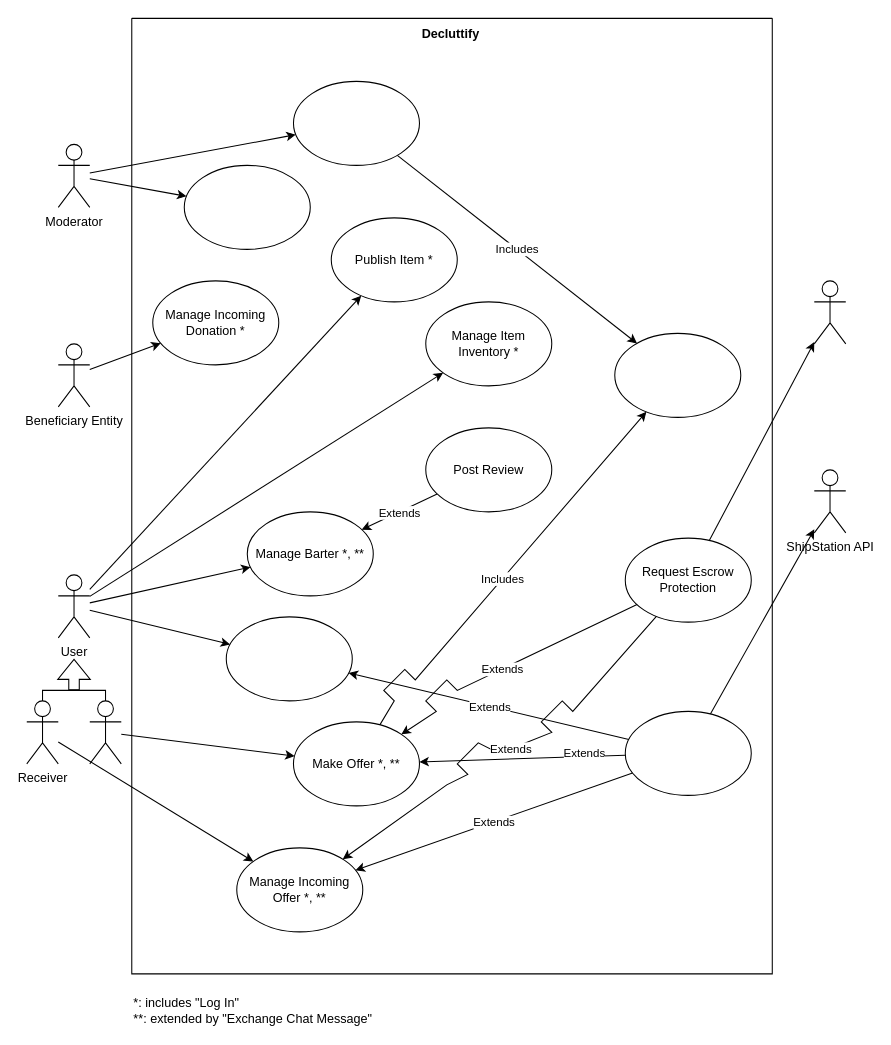
The diagram is 891 pixels wide and 1045 high, and some of its shapes have lost their labels. The box of each missing label's shape, as (x1, y1, x2, y2) in pixels:
Donate Item *: (225, 616, 352, 701)
Escrow.com: (813, 280, 846, 344)
Manage Barter Dispute *: (183, 164, 310, 249)
Manage Item Publishement *: (292, 80, 419, 165)
Offerer: (89, 700, 121, 764)
Request Shipping: (624, 710, 751, 795)
Visualize Item: (614, 332, 741, 417)
